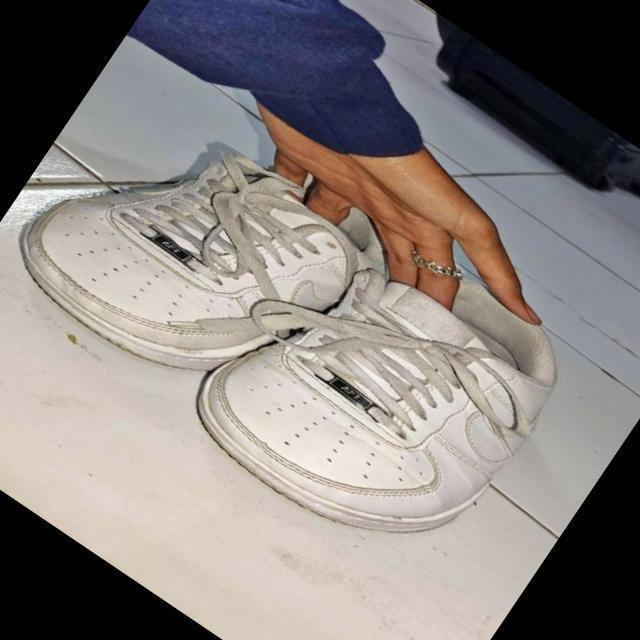nike fake air force: (170, 175, 602, 604), (0, 59, 433, 467)
